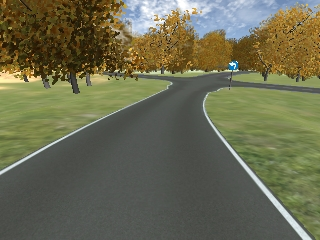left: (227, 62, 238, 72)
